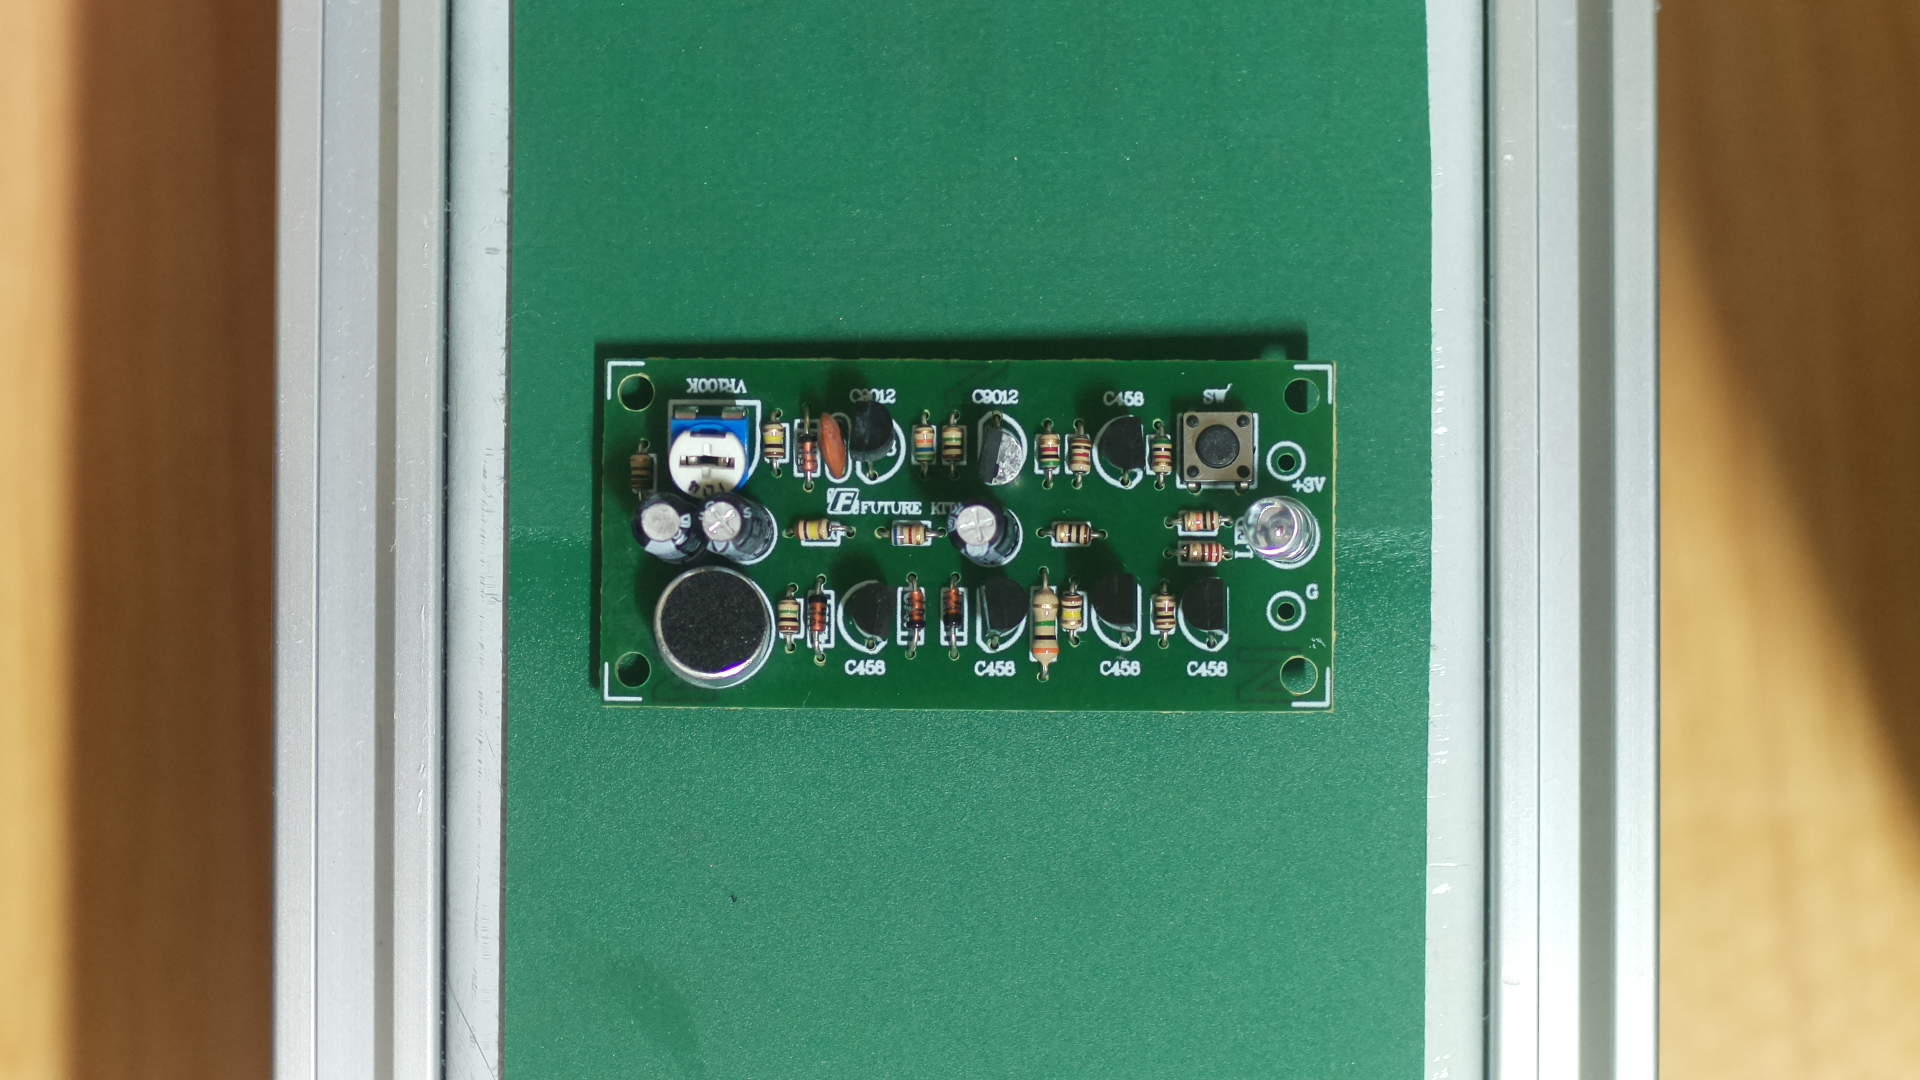A_Normal: (603, 357, 1335, 716)
